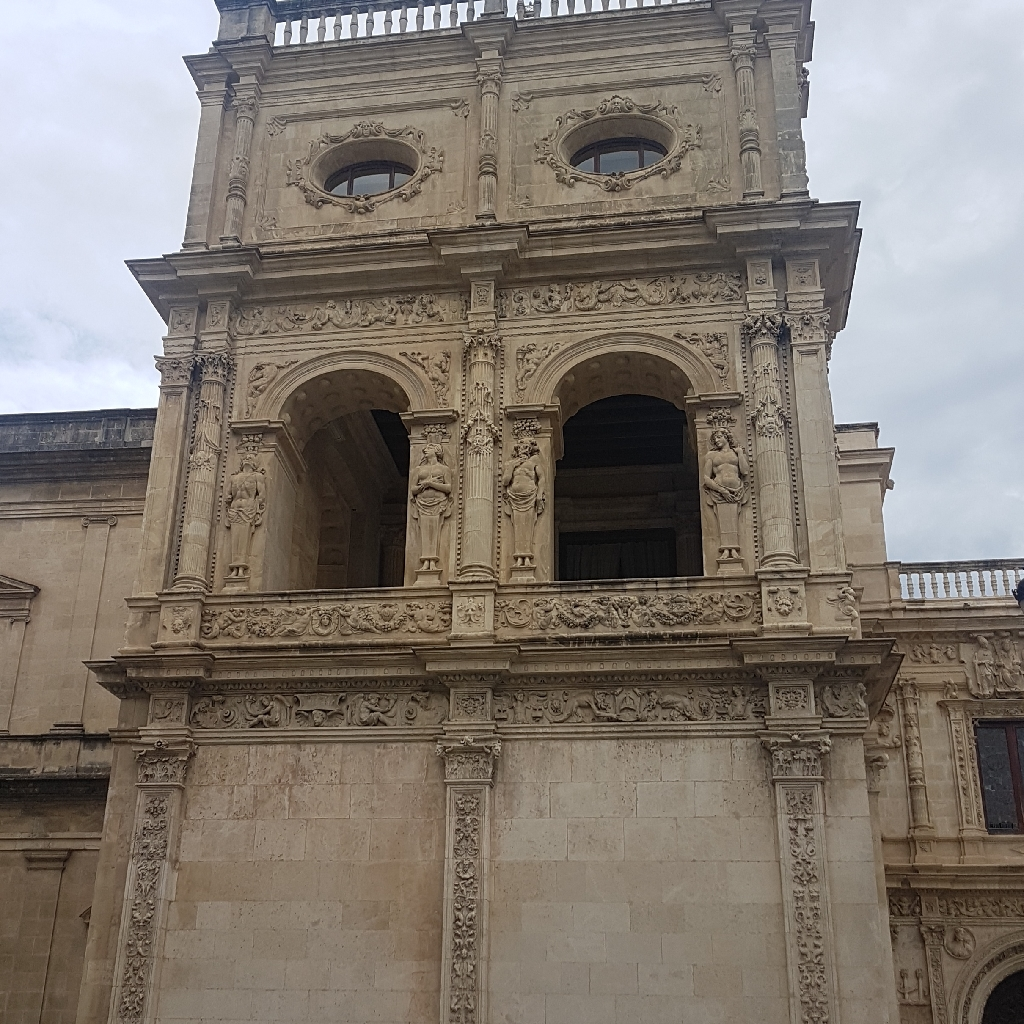arco-medio-punto: (543, 343, 703, 436), (263, 360, 424, 444)
ojo-de-buey: (555, 105, 685, 181), (304, 131, 423, 200)
